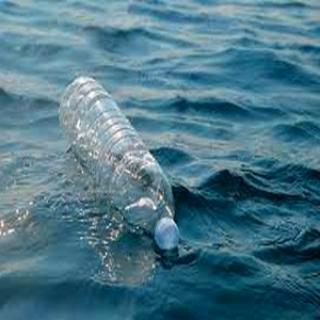Plastic: (58, 73, 182, 251)
